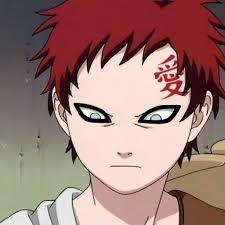gaara: (52, 40, 214, 196)
